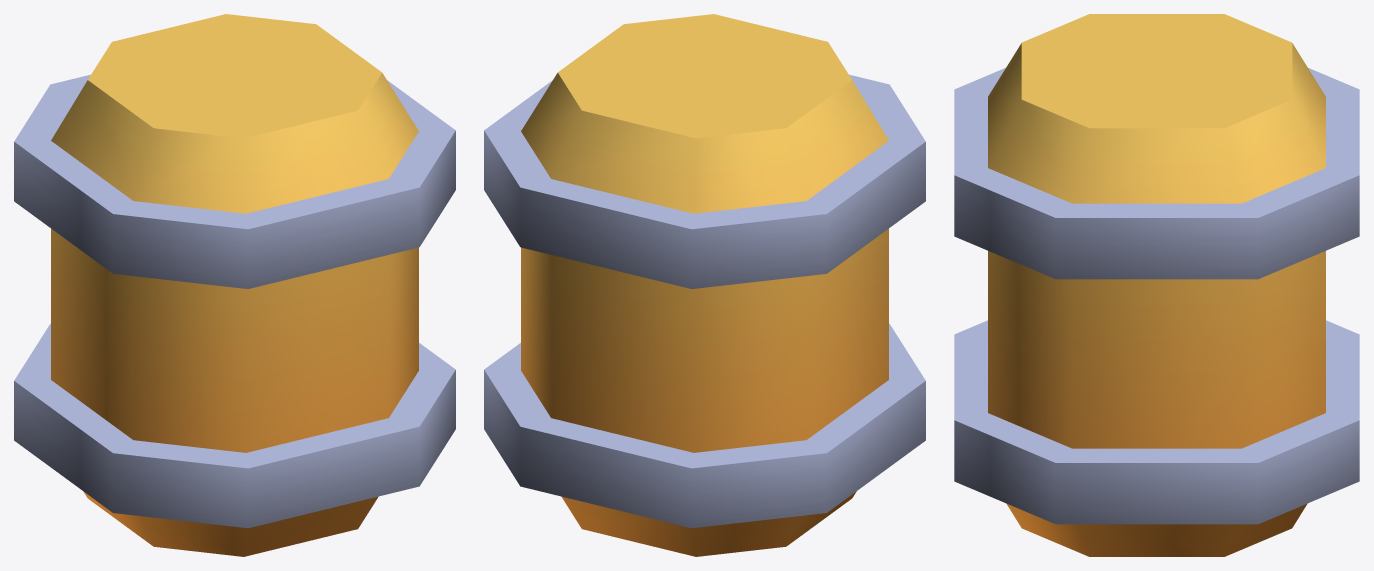
File: kenney-space-station-container-wide.glb
3 renders of one model, left to right at view 1: azimuth 30°, elevation 25°; view 2: azimuth 150°, elevation 25°; view 3: azimuth 270°, elevation 25°, orthographic. The views are drawn at different scales.
Visible parts, largest first — view 1: container-wide; view 2: container-wide; view 3: container-wide.
Part boxes in pixels (x1,y1,x2,y2): container-wide: [14, 14, 455, 556]; container-wide: [484, 14, 925, 556]; container-wide: [954, 14, 1359, 556].
Size of the model in its own units: 0.6 by 0.7 by 0.6.
1 material, 1 textured.
